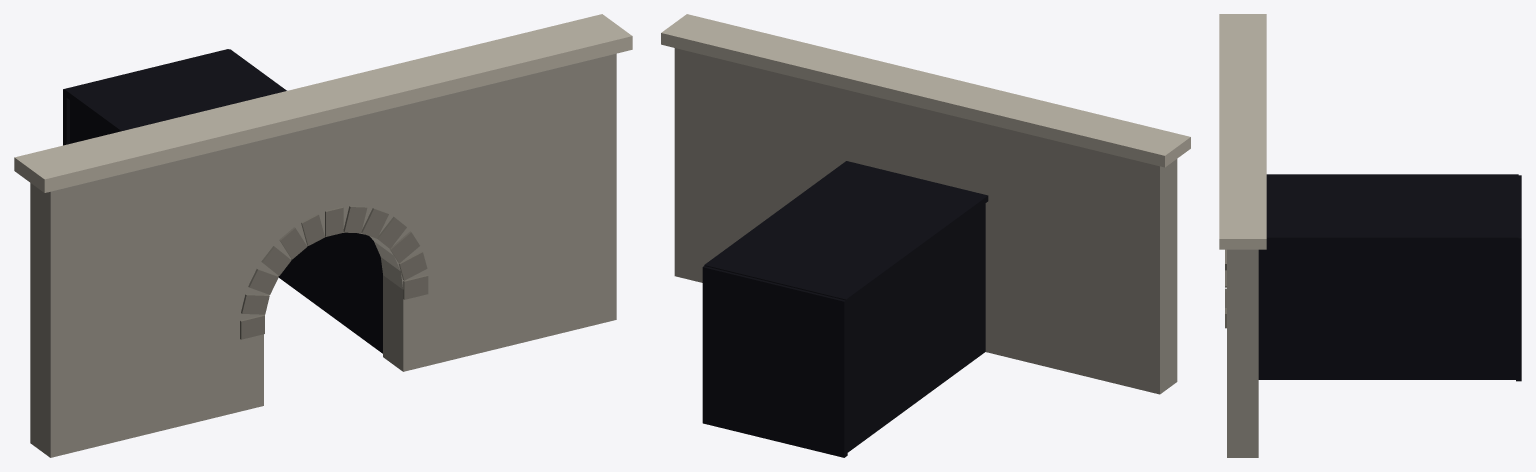
The model's file is tunnel_portal.glb.
3 renders of one model, left to right at view 1: azimuth 30°, elevation 25°; view 2: azimuth 150°, elevation 25°; view 3: azimuth 270°, elevation 25°, orthographic. The views are drawn at different scales.
Visible parts, largest first — view 1: tunnel_portal; view 2: tunnel_portal; view 3: tunnel_portal.
Part boxes in pixels (x1=…): tunnel_portal: x1=14, y1=14, x2=632, y2=457; tunnel_portal: x1=661, y1=14, x2=1190, y2=457; tunnel_portal: x1=1219, y1=14, x2=1521, y2=457.
Size of the model in its own units: 27 by 12.5 by 15.35.
